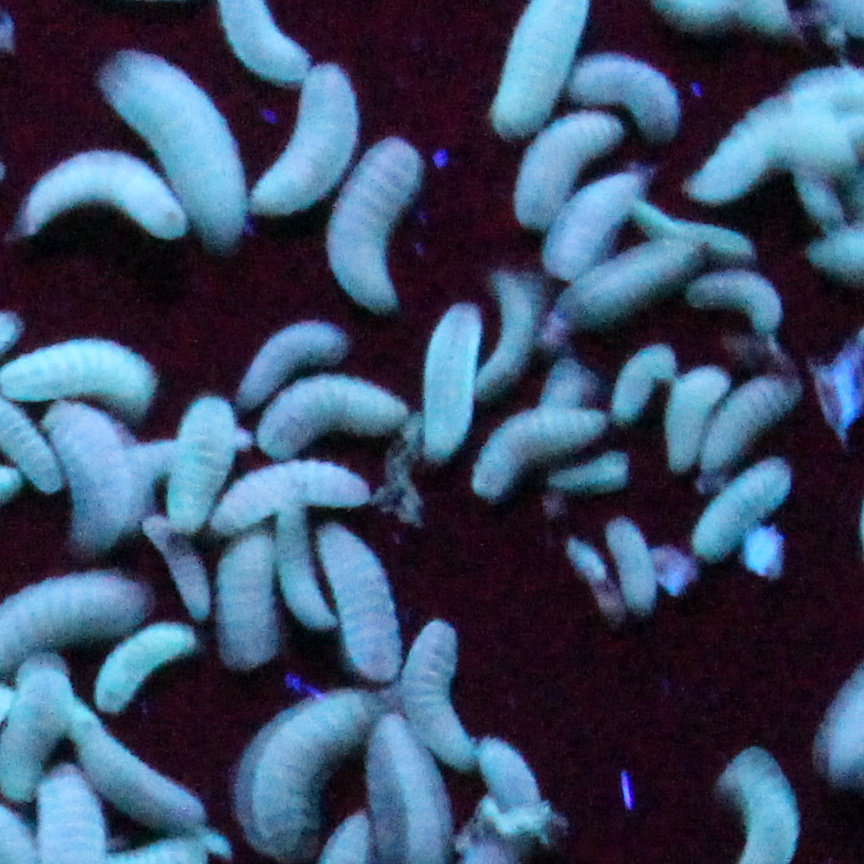larve: (90, 46, 243, 259), (236, 56, 362, 230), (328, 125, 428, 330), (304, 513, 406, 687), (30, 399, 143, 545), (3, 148, 197, 231), (510, 99, 626, 236), (205, 524, 296, 688), (469, 397, 616, 496), (394, 617, 487, 772), (415, 299, 500, 464), (89, 608, 207, 725), (685, 454, 807, 566), (221, 315, 359, 413), (198, 461, 387, 527), (569, 43, 689, 140), (151, 386, 231, 531), (603, 513, 671, 620), (600, 338, 677, 427)
